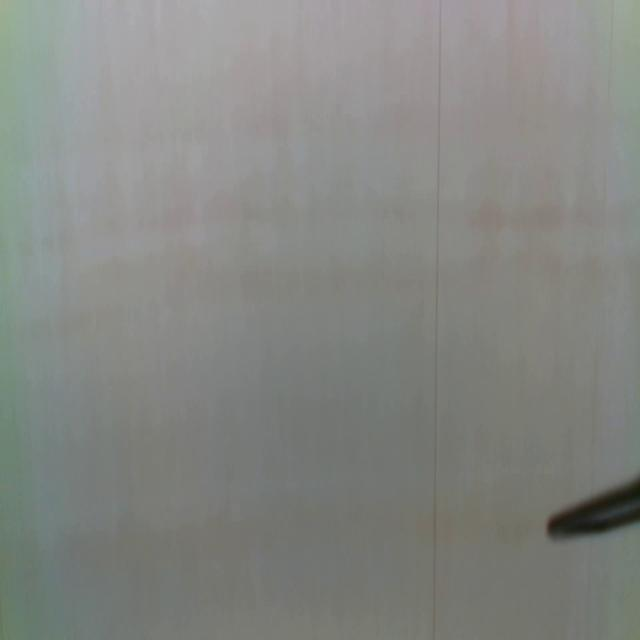crease: (429, 0, 444, 640)
